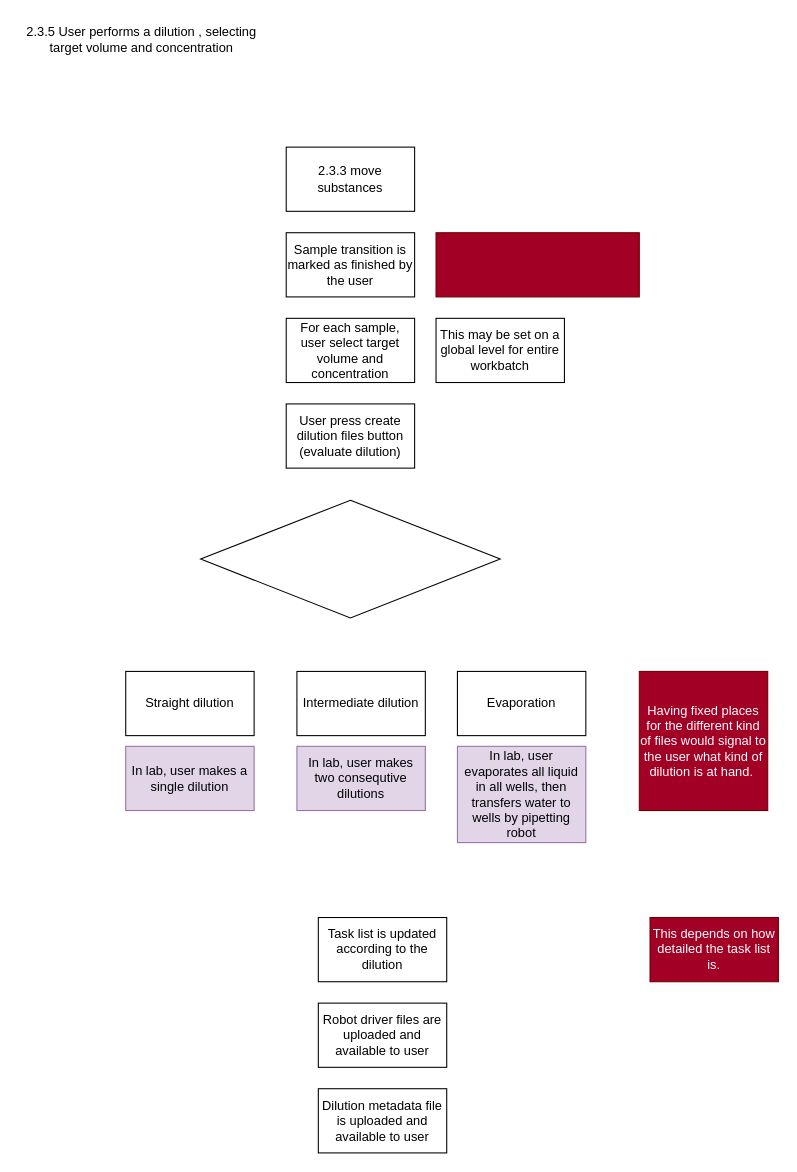
Image size: 797x1172. Some labels were removed from this diagram. Here are the shapes that lost their labels. From the top down, the centre of each, then its label:
the point at 537,264: Note! this proposal is not according to current design documents.
the point at 350,558: Dilution type was detemined by script
